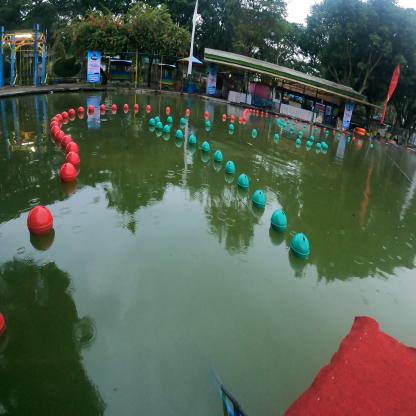green_buoy: (290, 232, 310, 258), (270, 209, 289, 234), (252, 189, 266, 209), (237, 173, 249, 190), (224, 161, 236, 174), (213, 150, 223, 163), (201, 141, 210, 152), (188, 134, 197, 144), (175, 130, 183, 139), (155, 121, 163, 129), (149, 118, 156, 126), (163, 125, 170, 133), (167, 116, 173, 123), (180, 117, 186, 124), (228, 124, 234, 131), (205, 121, 211, 127), (274, 133, 280, 139), (155, 115, 160, 122), (252, 129, 257, 134)
red_buoy: (27, 205, 53, 235), (58, 162, 78, 184), (64, 151, 80, 168), (66, 140, 80, 154), (61, 134, 73, 148), (50, 124, 61, 136), (54, 130, 66, 140), (50, 121, 60, 131), (54, 112, 63, 122), (50, 117, 60, 126), (68, 108, 76, 116), (61, 111, 68, 119), (88, 104, 94, 111), (100, 104, 106, 110), (111, 104, 117, 109), (78, 107, 84, 112), (134, 104, 139, 109), (146, 104, 151, 109), (124, 103, 128, 109), (166, 107, 170, 112), (185, 109, 190, 113), (205, 111, 209, 115), (223, 114, 226, 118)
